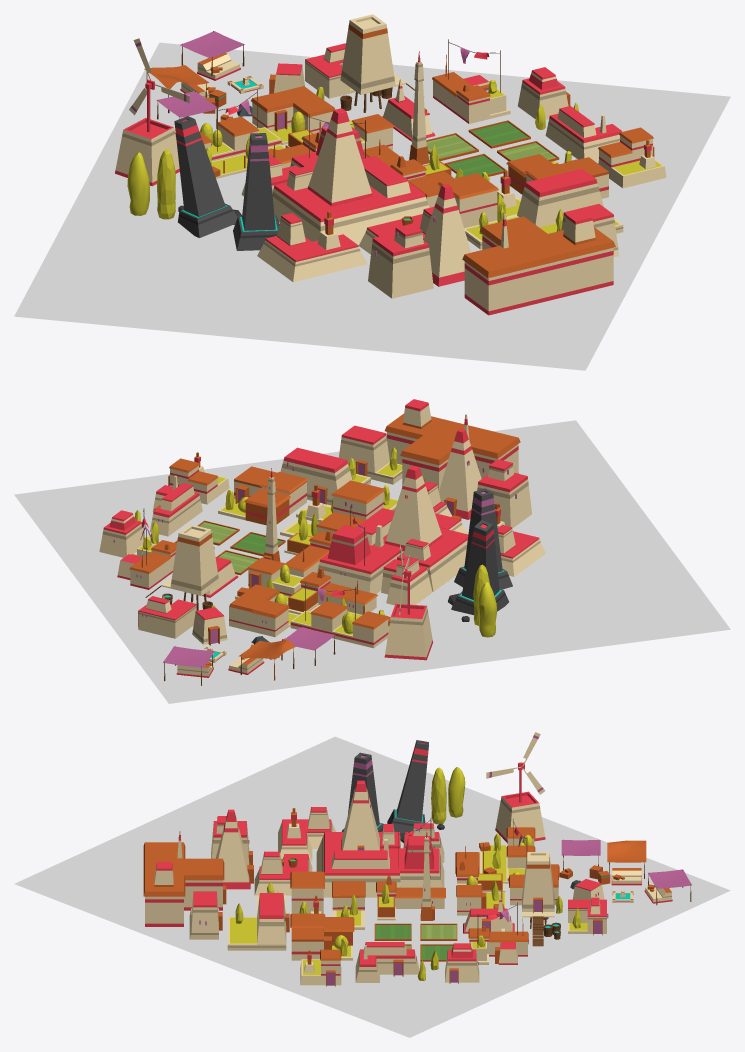
File: Buildings Scene.fbx
3 renders of one model, top to bottom at view 1: azimuth 30°, elevation 25°; view 2: azimuth 150°, elevation 25°; view 3: azimuth 270°, elevation 25°, orthographic. The views are drawn at different scales.
Visible parts, largest first — view 1: Plane, Cube.116, Cube.003, Cube.115, Cube.054, Cube.019, Cube, Cube.097, Cube.089, Cube.048, Cube.096, Cube.122 (+30 smaller); view 2: Plane, Cube.116, Cube.003, HOUSE1, Cube, Cube.089, Cube.042, Cube.122, Cube.019, Cube.040, Cube.115, Cube.096 (+27 smaller); view 3: Plane, Cube.116, Cube.003, Cube.019, HOUSE1, Cube.115, Cube.065, Cube, Cube.089, Cube.122, Cube.096, Cube.064 (+29 smaller).
Boxes of the visible parts, left/top/right/bottom form: Plane: left=14, top=42, right=730, bottom=370; Cube.116: left=462, top=210, right=615, bottom=315; Cube.003: left=241, top=151, right=429, bottom=243; Cube.115: left=174, top=116, right=237, bottom=237; Cube.054: left=257, top=213, right=367, bottom=282; Cube.019: left=464, top=168, right=623, bottom=249; Cube: left=307, top=108, right=372, bottom=206; Cube.097: left=368, top=223, right=433, bottom=298; Cube.089: left=340, top=14, right=406, bottom=94; Cube.048: left=233, top=133, right=279, bottom=250; Cube.096: left=423, top=184, right=471, bottom=286; Cube.122: left=115, top=79, right=179, bottom=186; Plane: left=14, top=420, right=730, bottom=703; Cube.116: left=384, top=399, right=520, bottom=490; Cube.003: left=317, top=527, right=468, bottom=605; HOUSE1: left=218, top=466, right=308, bottom=525; Cube: left=385, top=465, right=442, bottom=548; Cube.089: left=161, top=524, right=219, bottom=595; Cube.042: left=290, top=601, right=389, bottom=648; Cube.122: left=384, top=568, right=432, bottom=660; Cube.019: left=280, top=447, right=397, bottom=510; Cube.040: left=229, top=584, right=298, bottom=637; Cube.115: left=451, top=520, right=508, bottom=614; Cube.096: left=439, top=429, right=481, bottom=519; Plane: left=14, top=736, right=730, bottom=1037; Cube.116: left=143, top=830, right=224, bottom=926; Cube.003: left=316, top=832, right=444, bottom=897; Cube.019: left=227, top=893, right=286, bottom=950; HOUSE1: left=290, top=913, right=354, bottom=960; Cube.115: left=387, top=740, right=428, bottom=833; Cube.065: left=355, top=942, right=418, bottom=982; Cube: left=341, top=780, right=380, bottom=850; Cube.089: left=522, top=852, right=554, bottom=917; Cube.122: left=495, top=762, right=545, bottom=843; Cube.096: left=215, top=809, right=250, bottom=889; Cube.064: left=468, top=919, right=528, bottom=964.
Bounding box in the file's own units: 3662 × 610 × 3681.
Materials: 97 (2 with a texture image).
